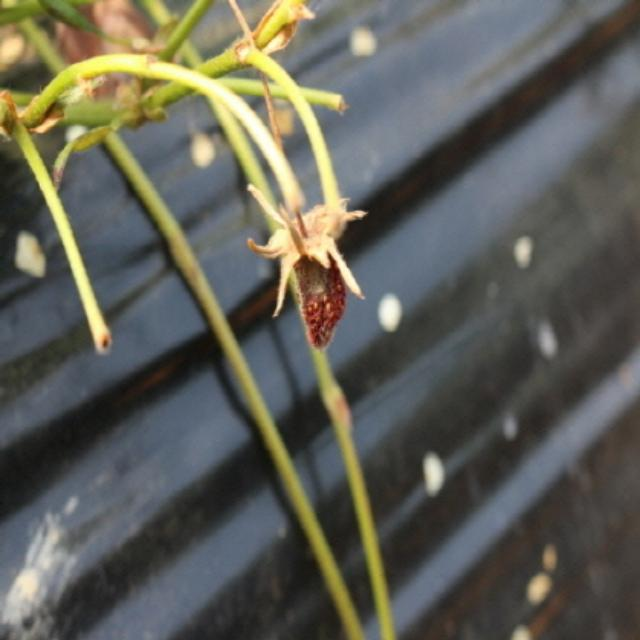Gray Mold: (246, 181, 369, 352)
